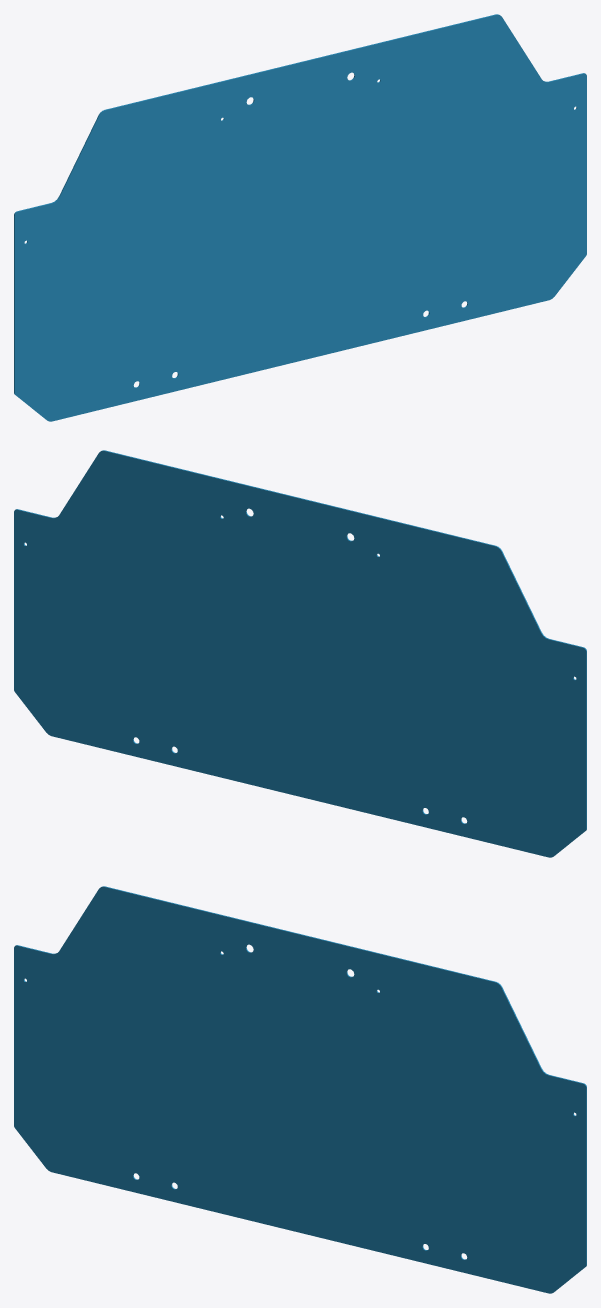
3 renders of one model, top to bottom at view 1: azimuth 30°, elevation 25°; view 2: azimuth 150°, elevation 25°; view 3: azimuth 330°, elevation 25°, orthographic.
Parts seen in each view (by area): view 1: mesh6398, mesh6406; view 2: mesh6399, mesh6406; view 3: mesh6398, mesh6406.
Boxes of the visible parts, <box> form: mesh6398: <box>14,15,586,421</box>; mesh6406: <box>105,14,495,110</box>; mesh6399: <box>14,451,586,857</box>; mesh6406: <box>105,450,495,546</box>; mesh6398: <box>14,887,586,1293</box>; mesh6406: <box>105,886,495,982</box>.
Size of the model in its own units: 0.5684 by 0.283 by 0.0013.
